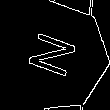N_E: (23, 29, 84, 84)
